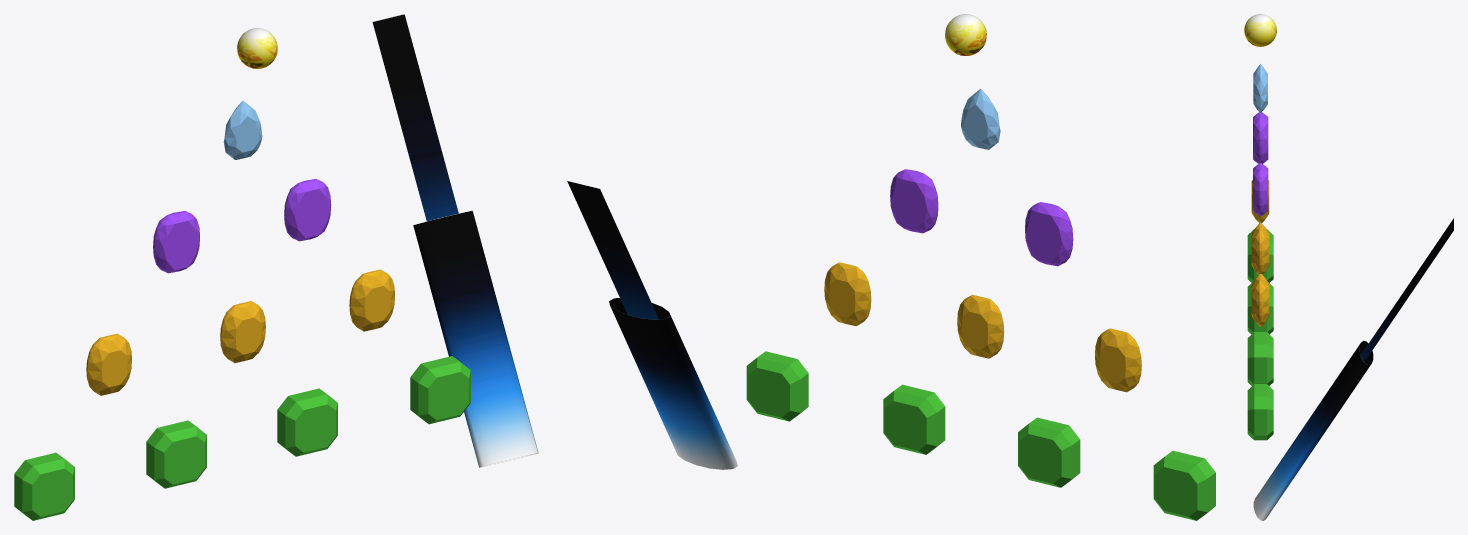
The model's file is Main Camera.fbx.
3 views of the same model, side by side, from view 1: azimuth 30°, elevation 25°; view 2: azimuth 150°, elevation 25°; view 3: azimuth 270°, elevation 25° (orthographic). The views are drawn at different scales.
Parts seen in each view (by area): view 1: yuanzhu, jewel2_emerald (×4), laze, jewel3_Topaz (×3), jewel2_Amethyst (×2), jewel3_Diamond, Sphere; view 2: jewel2_emerald (×4), yuanzhu, jewel3_Topaz (×3), jewel2_Amethyst (×2), laze, jewel3_Diamond, Sphere; view 3: yuanzhu, jewel2_emerald (×4), jewel3_Topaz (×2), jewel2_Amethyst (×2), laze, Sphere, jewel3_Diamond.
Boxes of the visible parts, x1,y1,x2,y2 form: yuanzhu: [413, 210, 538, 467]; jewel2_emerald (×4): [14, 356, 470, 520]; laze: [372, 14, 458, 221]; jewel3_Topaz (×3): [86, 269, 394, 395]; jewel2_Amethyst (×2): [153, 179, 331, 273]; jewel3_Diamond: [223, 100, 262, 159]; Sphere: [237, 28, 277, 68]; jewel2_emerald (×4): [746, 351, 1215, 520]; yuanzhu: [609, 298, 737, 469]; jewel3_Topaz (×3): [824, 262, 1141, 392]; jewel2_Amethyst (×2): [890, 169, 1073, 266]; laze: [567, 181, 658, 319]; jewel3_Diamond: [961, 88, 1000, 149]; Sphere: [945, 14, 986, 55]; yuanzhu: [1253, 340, 1373, 520]; jewel2_emerald (×4): [1247, 229, 1273, 440]; jewel3_Topaz (×2): [1251, 223, 1269, 326]; jewel2_Amethyst (×2): [1253, 112, 1268, 216]; laze: [1360, 218, 1453, 362]; Sphere: [1244, 14, 1276, 46]; jewel3_Diamond: [1253, 63, 1267, 112].
Size of the model in its own units: 5.64 by 5.14 by 2.45.
